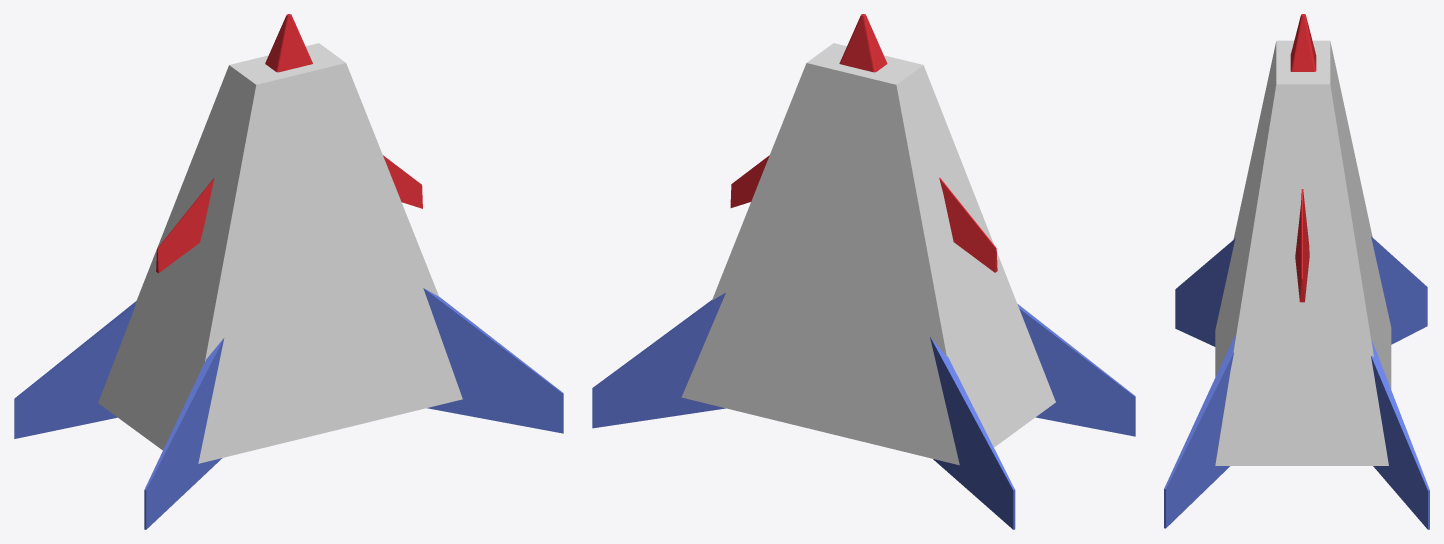
Rendered from inertia_gameobjects.fbx.
3 renders of one model, left to right at view 1: azimuth 30°, elevation 25°; view 2: azimuth 150°, elevation 25°; view 3: azimuth 270°, elevation 25°, orthographic.
Parts seen in each view (by area): view 1: Cube, Cylinder; view 2: Cube, Cylinder; view 3: Cube, Cylinder.
Part boxes in pixels (x1,y1,x2,y2): Cube: [98, 43, 462, 463]; Cylinder: [14, 14, 563, 529]; Cube: [681, 43, 1055, 465]; Cylinder: [592, 14, 1135, 529]; Cube: [1215, 40, 1391, 465]; Cylinder: [1164, 14, 1429, 529].
Bounding box in the file's own units: 157 × 149 × 86.45.
